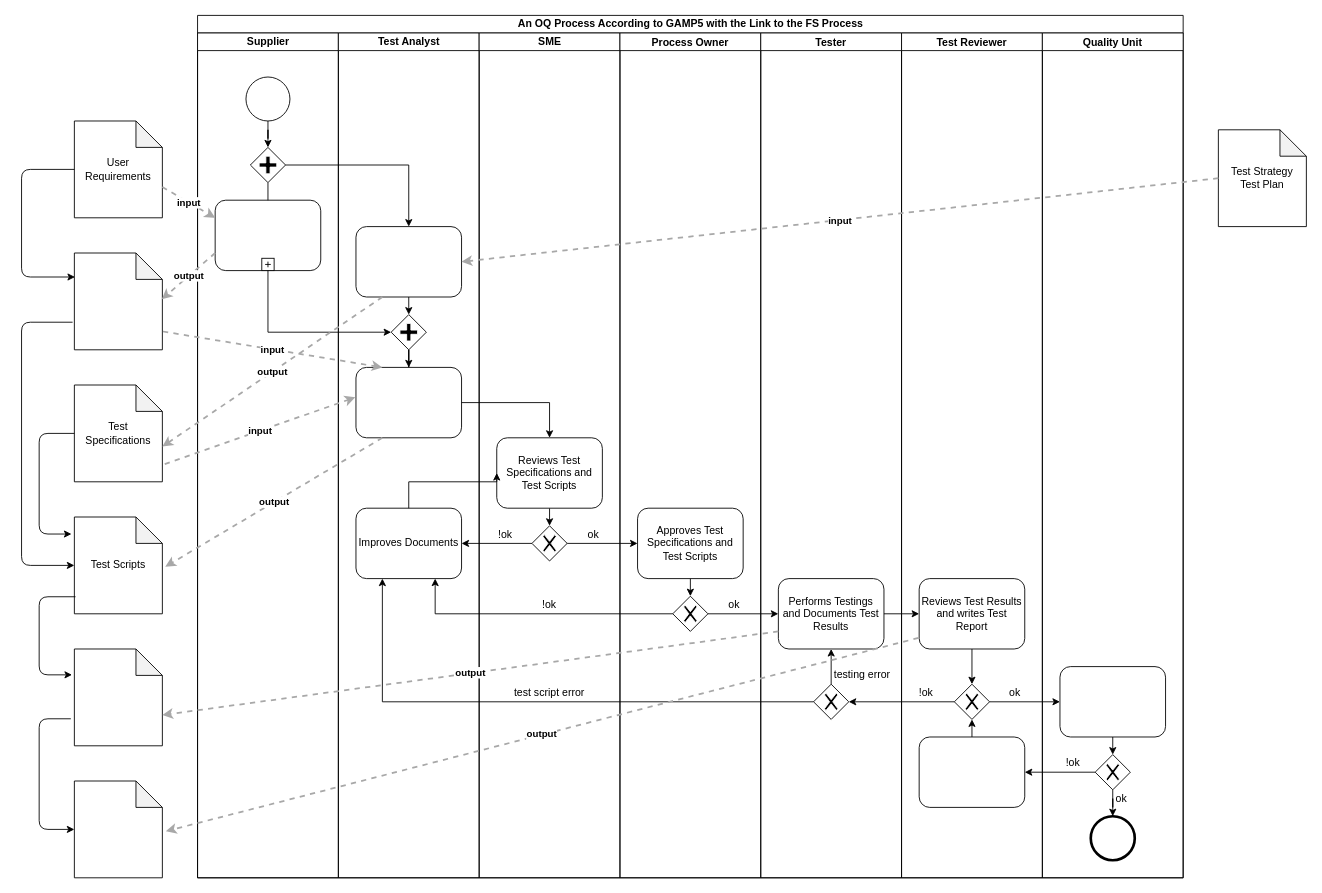
The diagram is 1322 pixels wide and 893 high, and some of its shapes have lost their labels. Each missing label, with the centre of its shape:
Corrects Review or Improves Test Report: point (971, 771)
Functional Specification Process: point (267, 235)
Functional Specifications: point (117, 301)
Reviews and Approves Test Report: point (1112, 701)
Test Reports: point (117, 829)
Test Results: point (117, 697)
Writes Test Scripts: point (408, 402)
Writes Test Specifications: point (408, 261)
